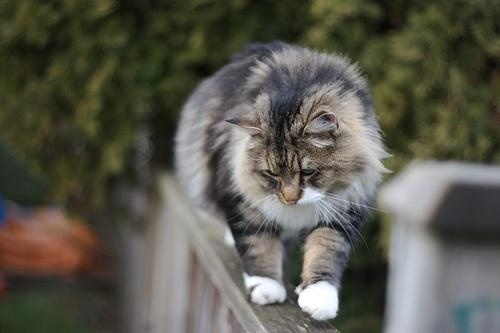cat: (172, 40, 398, 321)
